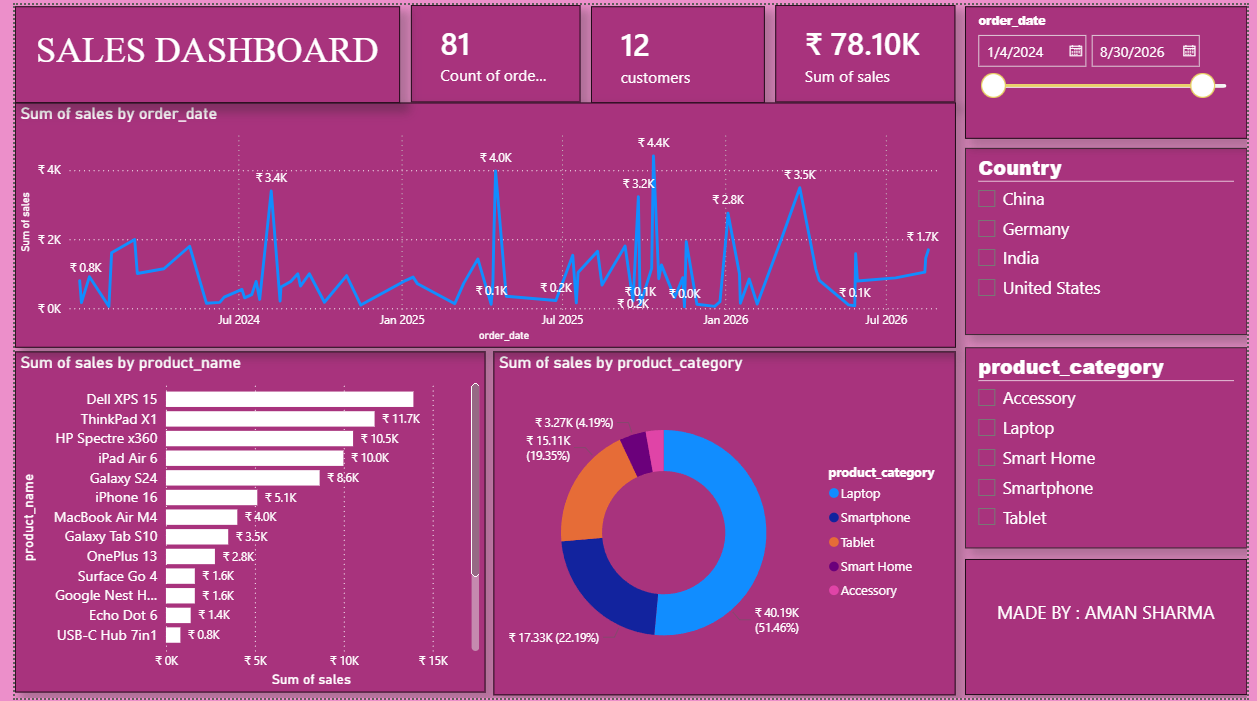

This screenshot's page, from the dashboard's own definition file:
{"tool":"powerbi","page":{"name":"Page 1","canvas":[1280,720],"ordinal":0},"visuals":[{"type":"barChart","fields":{"Category":["orders.product_name"],"Y":["Sum(orders.sales)"]},"box":[0,360,488.6,354.3],"z":0},{"type":"donutChart","fields":{"Y":["Sum(orders.sales)"],"Category":["orders.product_category"]},"box":[497.1,360,480,357.1],"z":1000},{"type":"cardVisual","fields":{"Data":["CountNonNull(orders.order_id)"]},"box":[411.4,0,175.7,101.4],"z":2000},{"type":"cardVisual","fields":{"Data":["Count(customers.customer_id)"]},"box":[598.6,1.4,180,100],"z":3000},{"type":"cardVisual","fields":{"Data":["Sum(orders.sales)"]},"box":[790,0,187.1,101.4],"z":4000},{"type":"lineChart","fields":{"Category":["orders.order_date"],"Y":["Sum(orders.sales)"]},"box":[0,101.4,977.1,254.3],"z":4001},{"type":"slicer","fields":{"Values":["customers.country"]},"box":[987.1,148.6,292.9,194.3],"z":4002},{"type":"slicer","fields":{"Values":["orders.product_category"]},"box":[987.1,355.7,292.9,208.6],"z":4003},{"type":"slicer","fields":{"Values":["orders.order_date"]},"box":[987.1,1.4,292.9,137.1],"z":4004},{"type":"textbox","box":[987.1,575.7,292.9,141.4],"z":4005},{"type":"textbox","box":[0,1.4,400,100],"z":4006}]}

Visuals, with their boxes in screenshot pixels (x1, y1, x2, y2), scaled from the page's 1280x720 canvas onto the 1257x701 screenshot:
barChart - orders.product_name x Sum(orders.sales): l=0, t=350, r=480, b=695
donutChart - Sum(orders.sales) x orders.product_category: l=488, t=350, r=960, b=698
cardVisual - CountNonNull(orders.order_id): l=404, t=0, r=577, b=99
cardVisual - Count(customers.customer_id): l=588, t=1, r=765, b=99
cardVisual - Sum(orders.sales): l=776, t=0, r=960, b=99
lineChart - orders.order_date x Sum(orders.sales): l=0, t=99, r=960, b=346
slicer - customers.country: l=969, t=145, r=1256, b=334
slicer - orders.product_category: l=969, t=346, r=1256, b=549
slicer - orders.order_date: l=969, t=1, r=1256, b=135
textbox: l=969, t=561, r=1256, b=698
textbox: l=0, t=1, r=393, b=99
